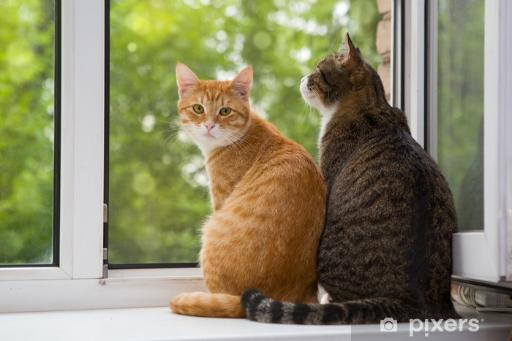cat_sitting: (170, 37, 458, 325)
